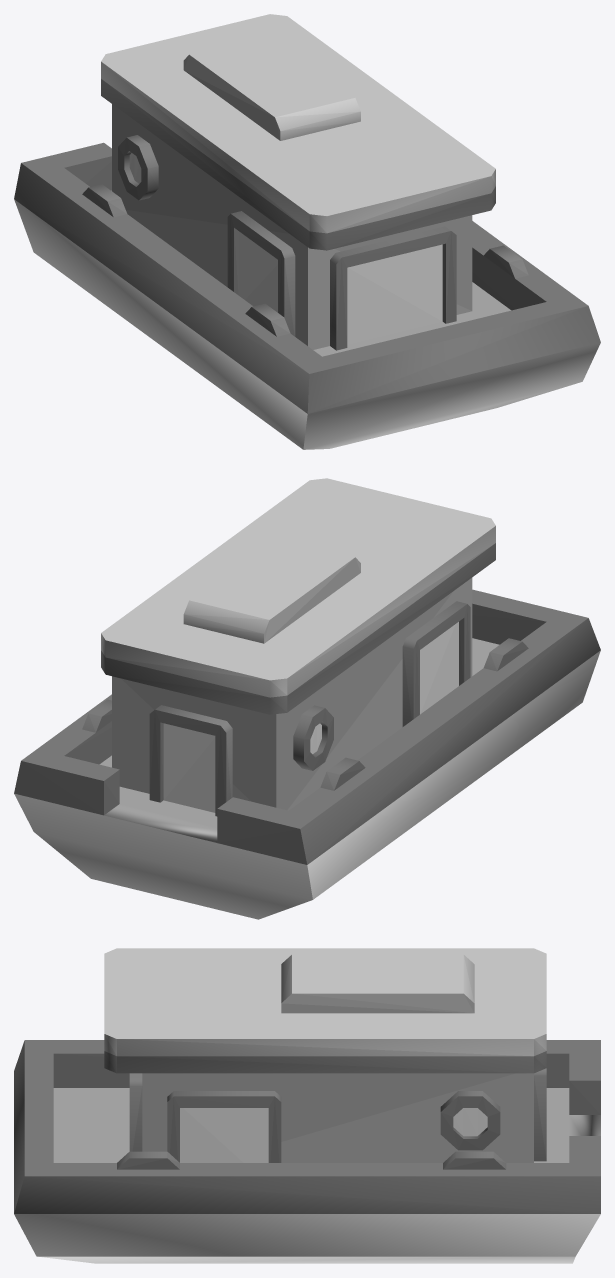
Rendered from nmrf_naval_yard.glb.
The picture shows the model from 3 angles, top to bottom: view 1: azimuth 30°, elevation 25°; view 2: azimuth 150°, elevation 25°; view 3: azimuth 270°, elevation 25°; orthographic projection.
Parts seen in each view (by area): view 1: Body; view 2: Body; view 3: Body.
Part boxes in pixels (x1,y1,x2,y2): Body: (14, 14, 600, 449); Body: (14, 478, 600, 919); Body: (14, 948, 600, 1263).
Bounding box in the file's own units: 9.22 × 7.48 × 16.
2 materials, 1 textured.
